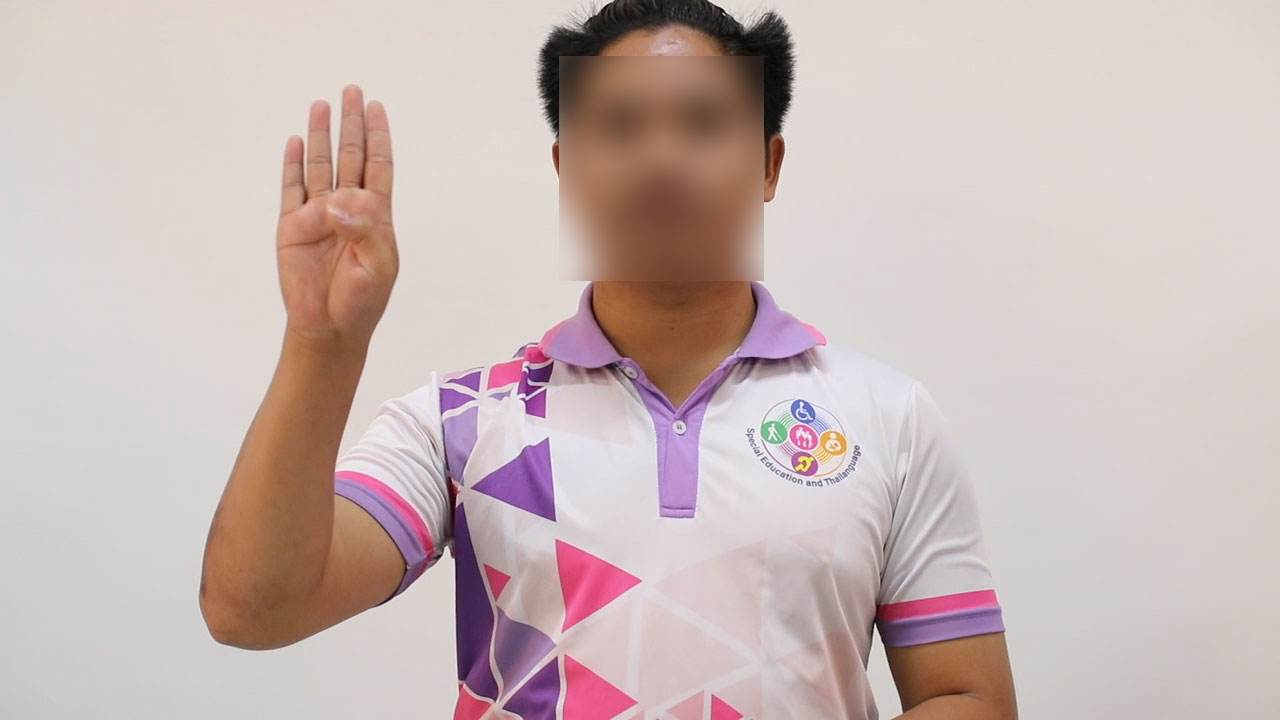bor: (246, 69, 427, 370)
